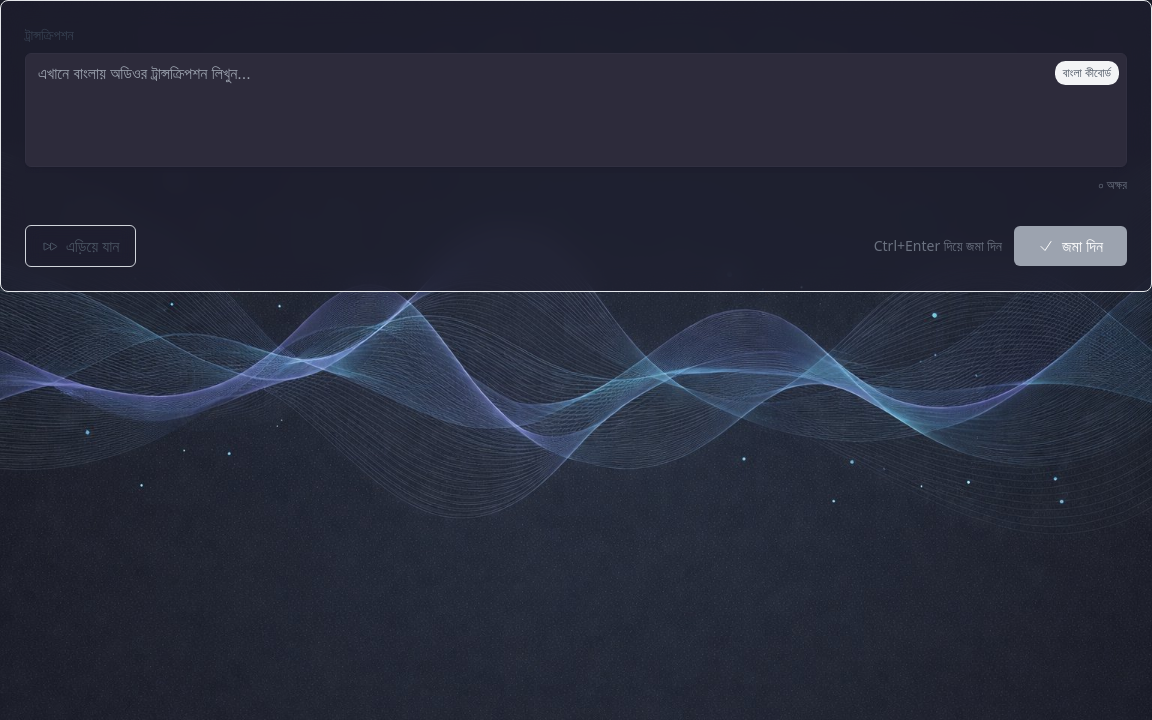
Test case: TranscriptionForm › shows character count
Type "পরীক্ষা" into the text box labelled "ট্রান্সক্রিপশন".
click(576, 110); type("পরীক্ষা")  # box [25, 53, 1127, 167]
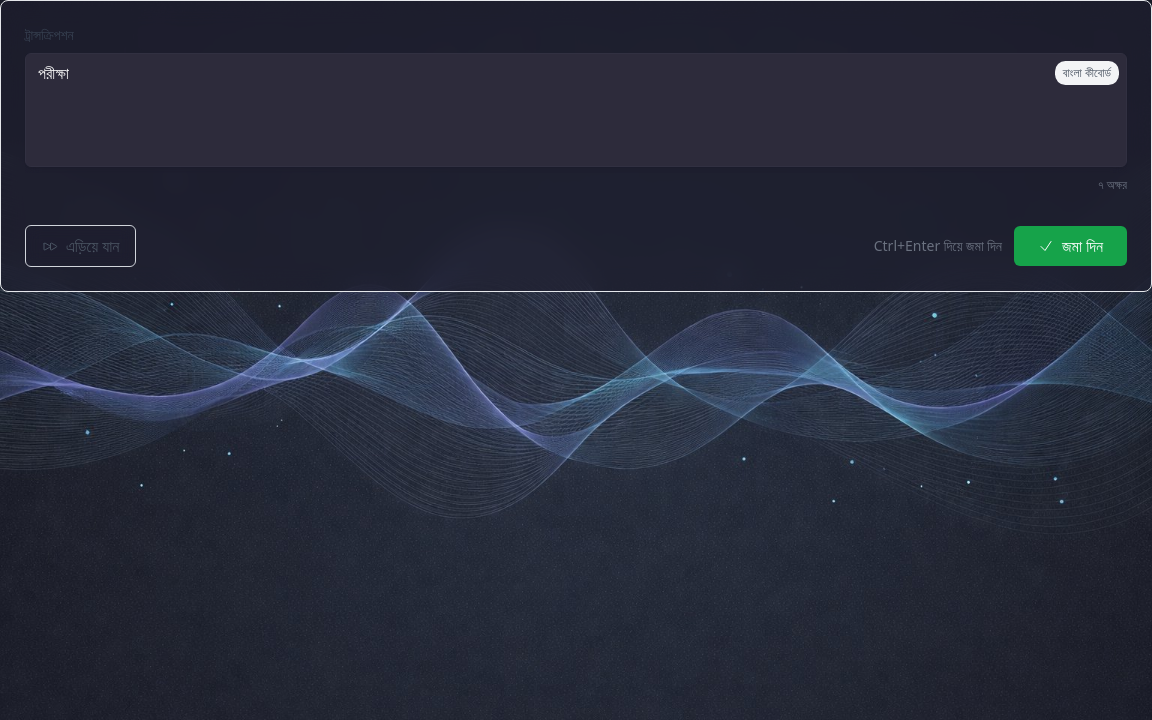
Expected: the text "৭ অক্ষর" is shown, [1098, 176, 1127, 193]
